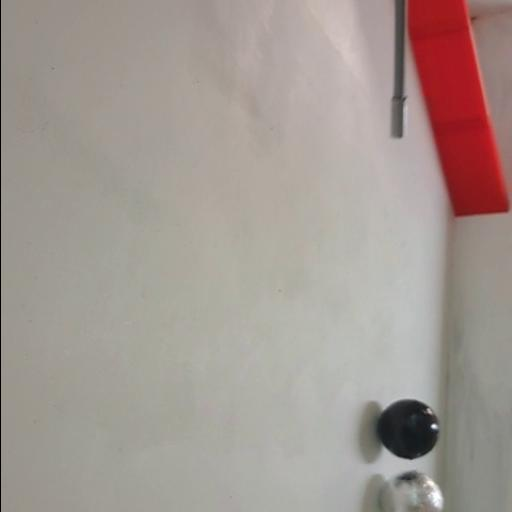alive: (378, 469, 442, 512)
dead: (376, 397, 440, 462)
